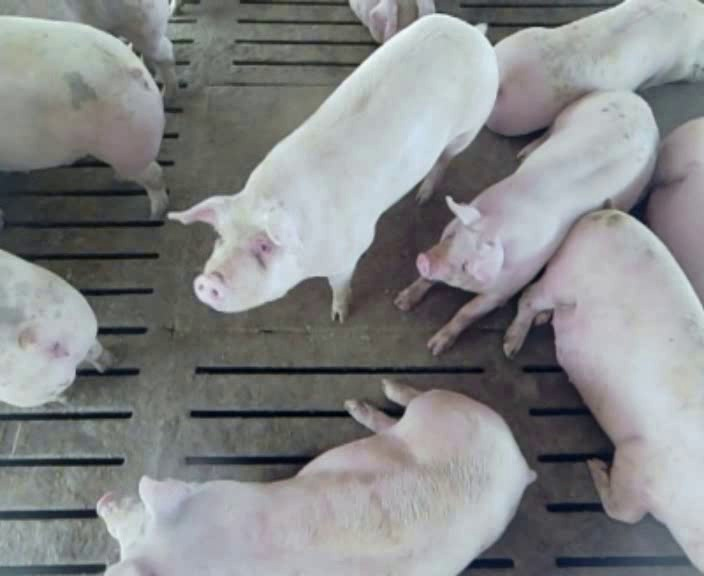pig: (170, 15, 497, 320), (98, 380, 535, 573), (504, 210, 703, 571), (395, 91, 657, 354), (487, 2, 703, 135), (646, 117, 703, 302)
